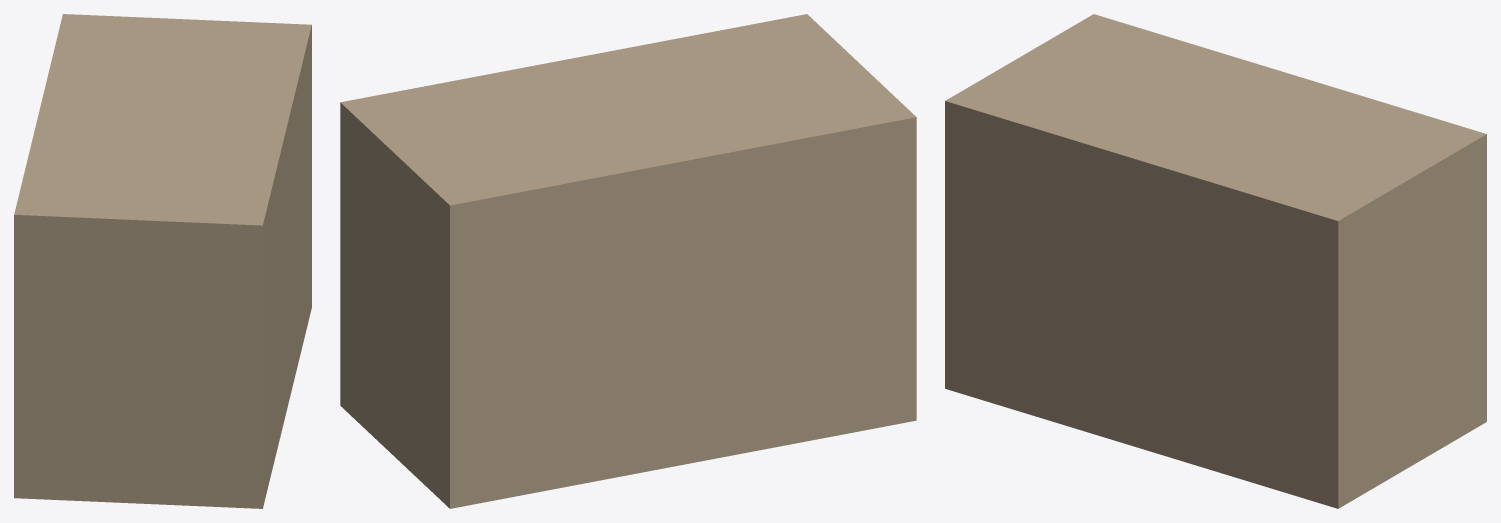
File: bld_100469485.dae
3 views of the same model, side by side, from view 1: azimuth 30°, elevation 25°; view 2: azimuth 150°, elevation 25°; view 3: azimuth 270°, elevation 25° (orthographic). The views are drawn at different scales.
Visible parts, largest first — view 1: bld_100469485; view 2: bld_100469485; view 3: bld_100469485.
Part boxes in pixels (box(x1,y1,x2,y2)): bld_100469485: box(14, 14, 311, 508); bld_100469485: box(340, 14, 916, 508); bld_100469485: box(945, 14, 1486, 508).
Size of the model in its own units: 12.35 by 13.65 by 8.
